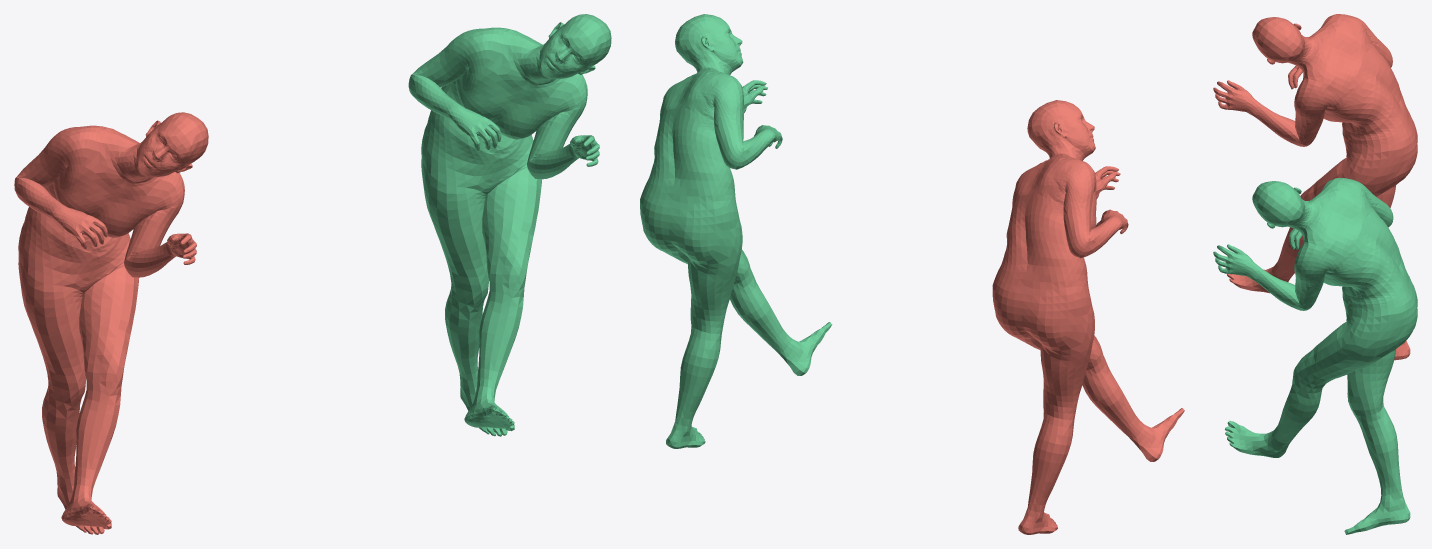
File: pose_379_before_after.glb
The picture shows the model from 3 angles, left to right: view 1: azimuth 30°, elevation 25°; view 2: azimuth 150°, elevation 25°; view 3: azimuth 270°, elevation 25°; orthographic projection. The views are drawn at different scales.
Parts seen in each view (by area): view 1: poseshield_green, input_red; view 2: poseshield_green, input_red; view 3: poseshield_green, input_red.
Boxes of the visible parts, x1=… form: poseshield_green: x1=408, y1=14, x2=611, y2=436; input_red: x1=14, y1=112, x2=208, y2=534; poseshield_green: x1=640, y1=14, x2=832, y2=448; input_red: x1=992, y1=100, x2=1184, y2=534; poseshield_green: x1=1213, y1=177, x2=1417, y2=534; input_red: x1=1213, y1=14, x2=1417, y2=360.
Size of what is drawn, in the model's own units: 1.96 by 1.51 by 0.759.
